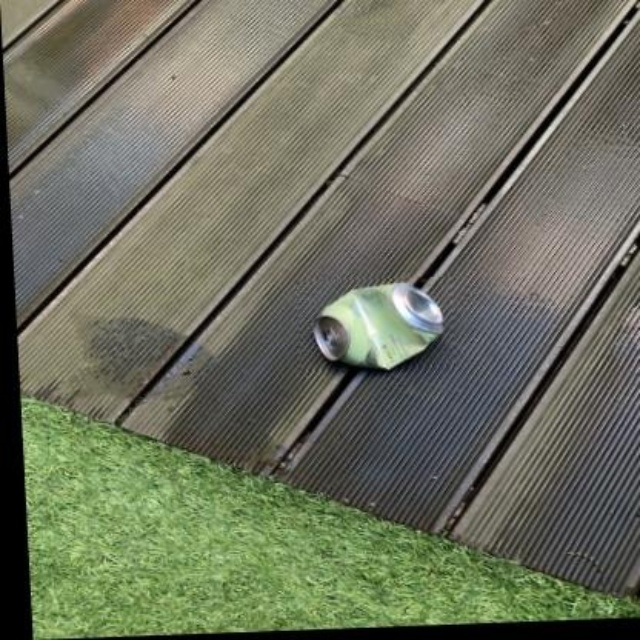trash: (314, 283, 442, 368)
